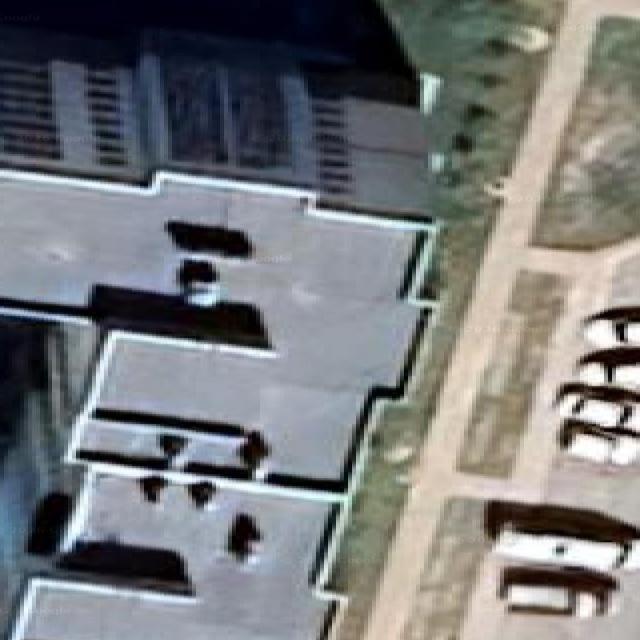car: (485, 500, 639, 571), (498, 566, 618, 617), (555, 382, 639, 432), (559, 419, 639, 465), (583, 307, 640, 349)
